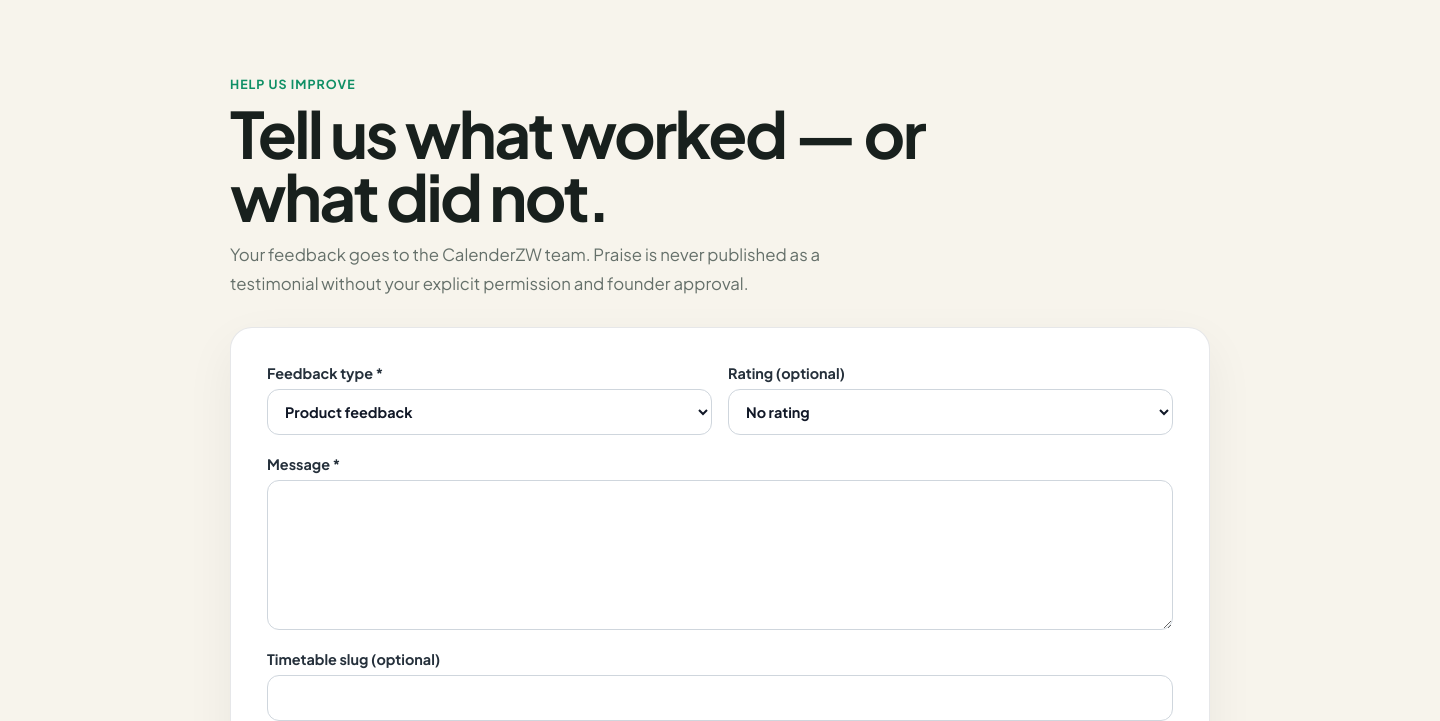
growth capture submission reliability › preserves feedback fields after a 4xx response
The width and height of the screenshot is (1440, 721).
Type "Keep this text after 400" into the text box labelled "Message *".
click(720, 554); type("Keep this text after 400")  # box top-left (267, 480), bottom-right (1173, 630)
(page scrolled)
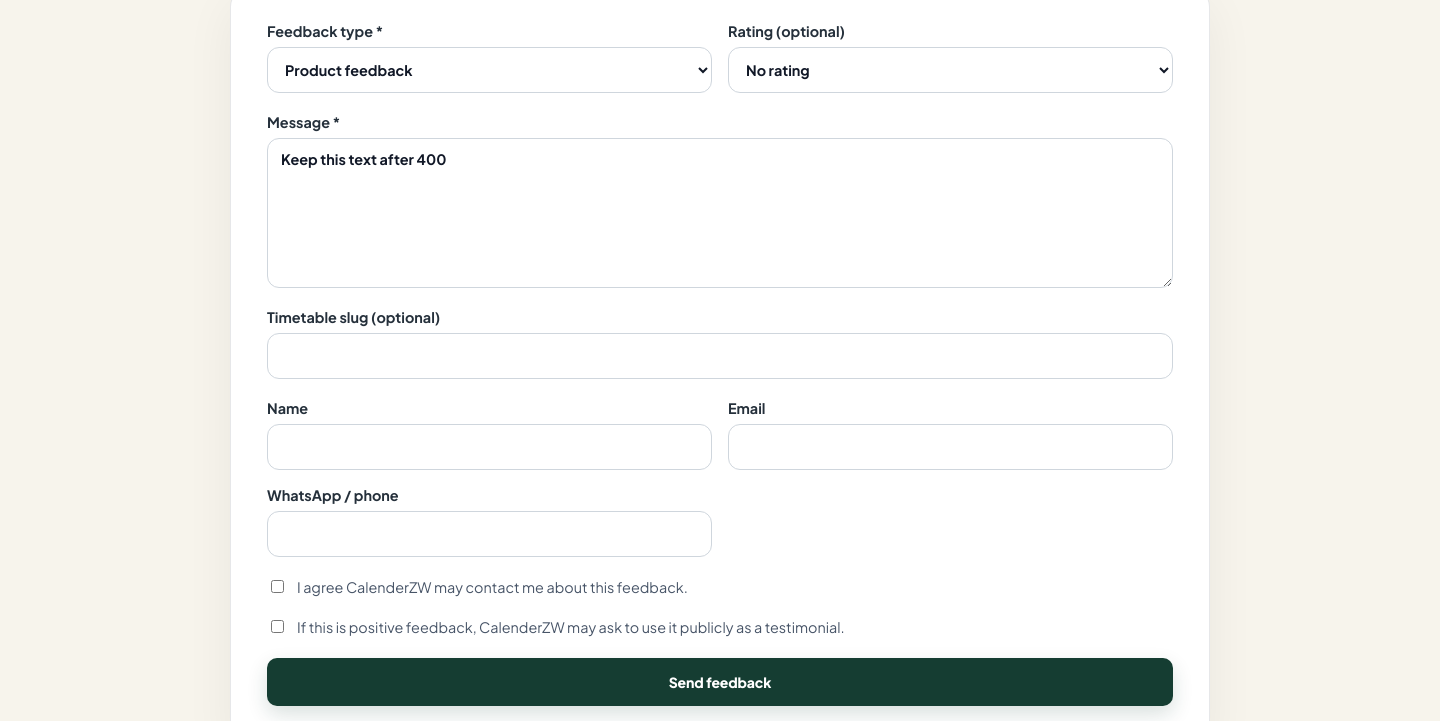
Type "student@example.com" into the field labelled "Email".
click(950, 446); type("student@example.com")  # box top-left (728, 424), bottom-right (1173, 470)
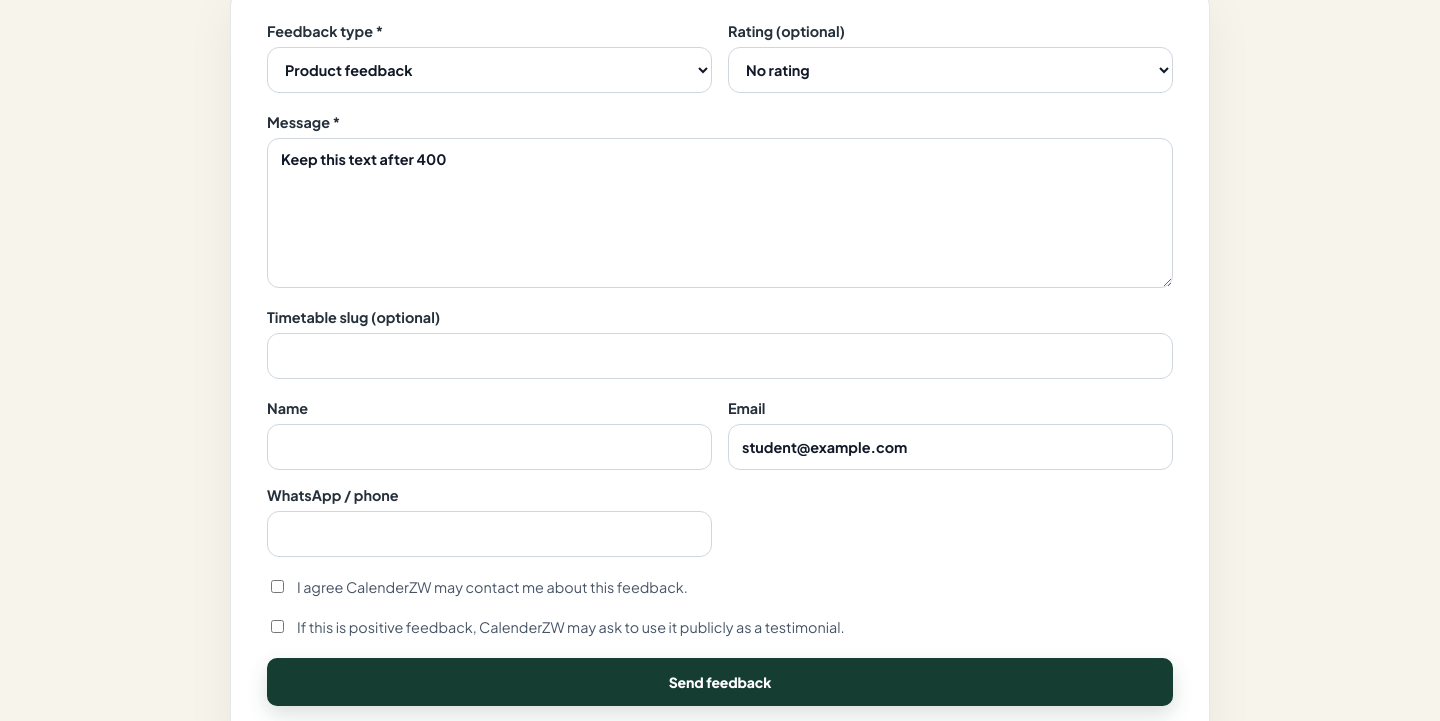
Submit the form named "Send feedback", box top-left (267, 22), bottom-right (1173, 706)
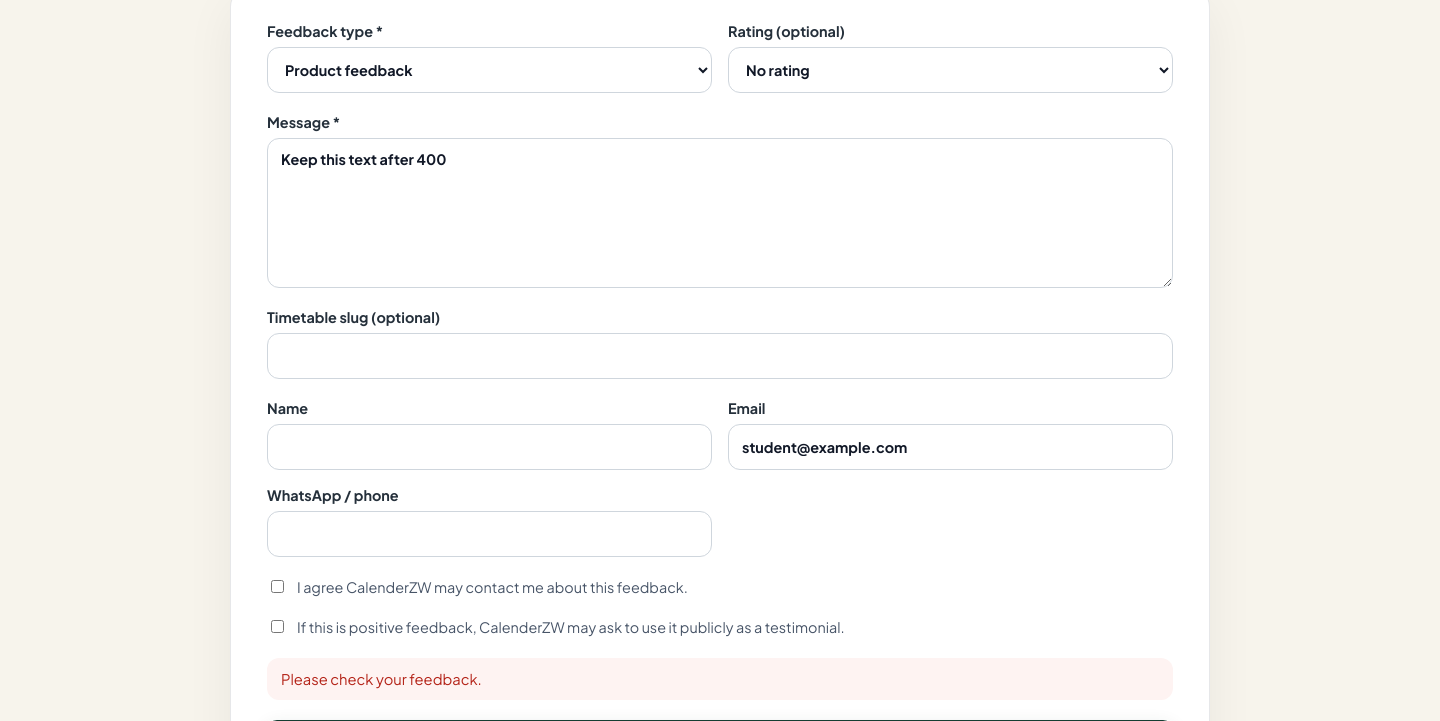
Now the message reads "Please check your feedback.", box top-left (281, 670), bottom-right (482, 688)
